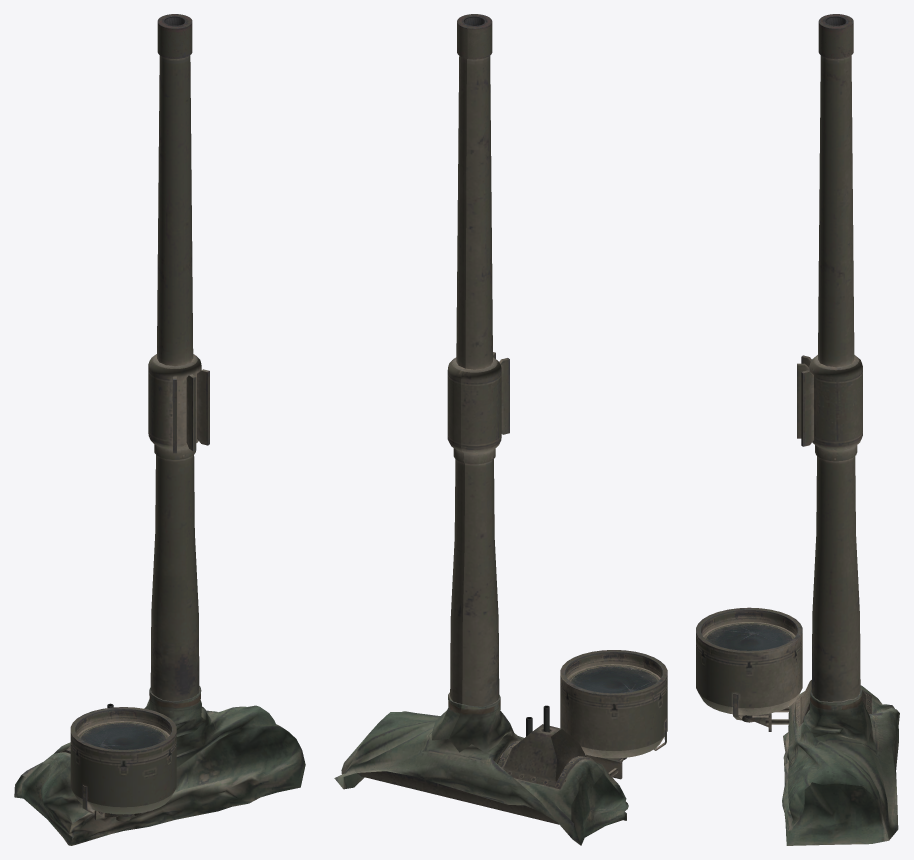
The model's file is Gun_01.glb.
The picture shows the model from 3 angles, left to right: view 1: azimuth 30°, elevation 25°; view 2: azimuth 150°, elevation 25°; view 3: azimuth 270°, elevation 25°; orthographic projection.
Visible parts, largest first — view 1: set_0_group_0; view 2: set_0_group_0; view 3: set_0_group_0.
Boxes of the visible parts, left/top/right/bottom form: set_0_group_0: left=14, top=14, right=305, bottom=845; set_0_group_0: left=334, top=14, right=667, bottom=845; set_0_group_0: left=696, top=14, right=899, bottom=845.
Bounding box in the file's own units: 1.51 × 4.47 × 1.06.
1 material, 1 textured.
